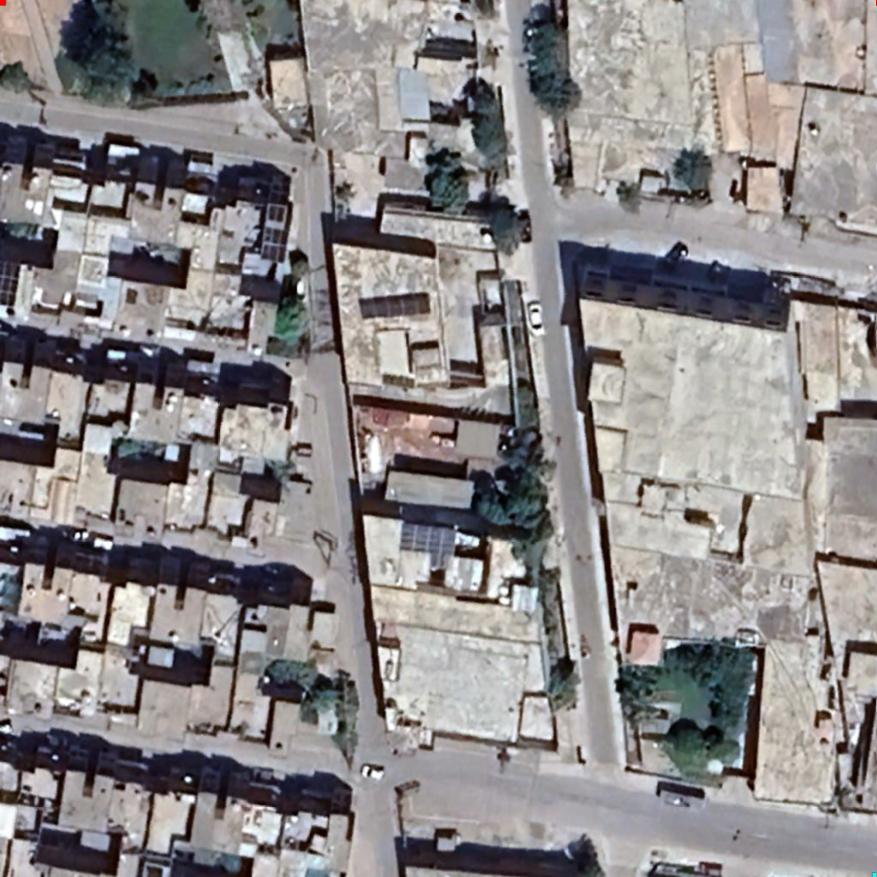Solarpanel: (397, 519, 458, 559), (357, 291, 432, 321), (258, 225, 289, 263), (0, 257, 23, 307), (268, 202, 289, 224)
